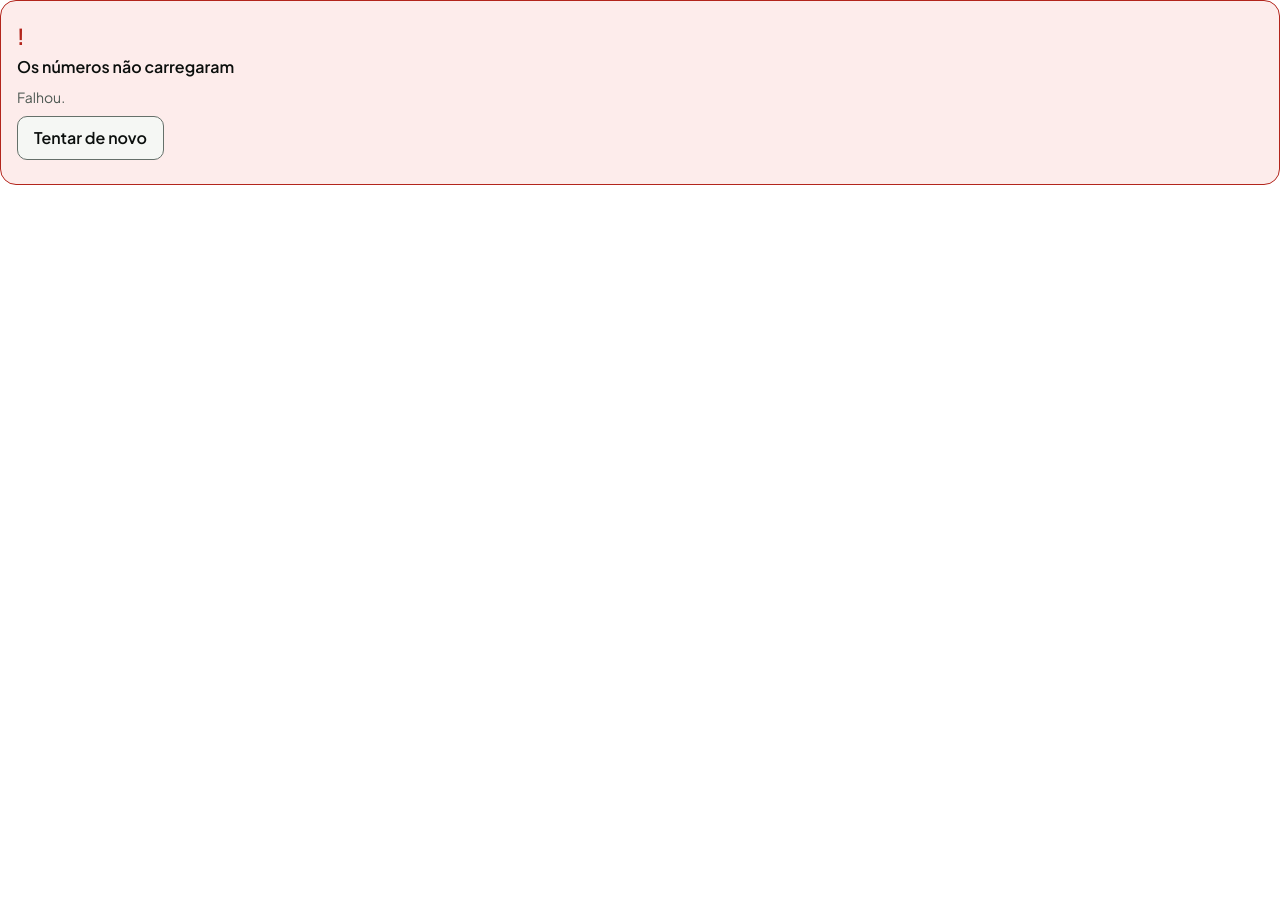
corpo do painel › erro oferece tentar de novo e carregando mostra o esqueleto
Click the button "Tentar de novo": {"x": 90, "y": 138} [17, 116, 164, 160]
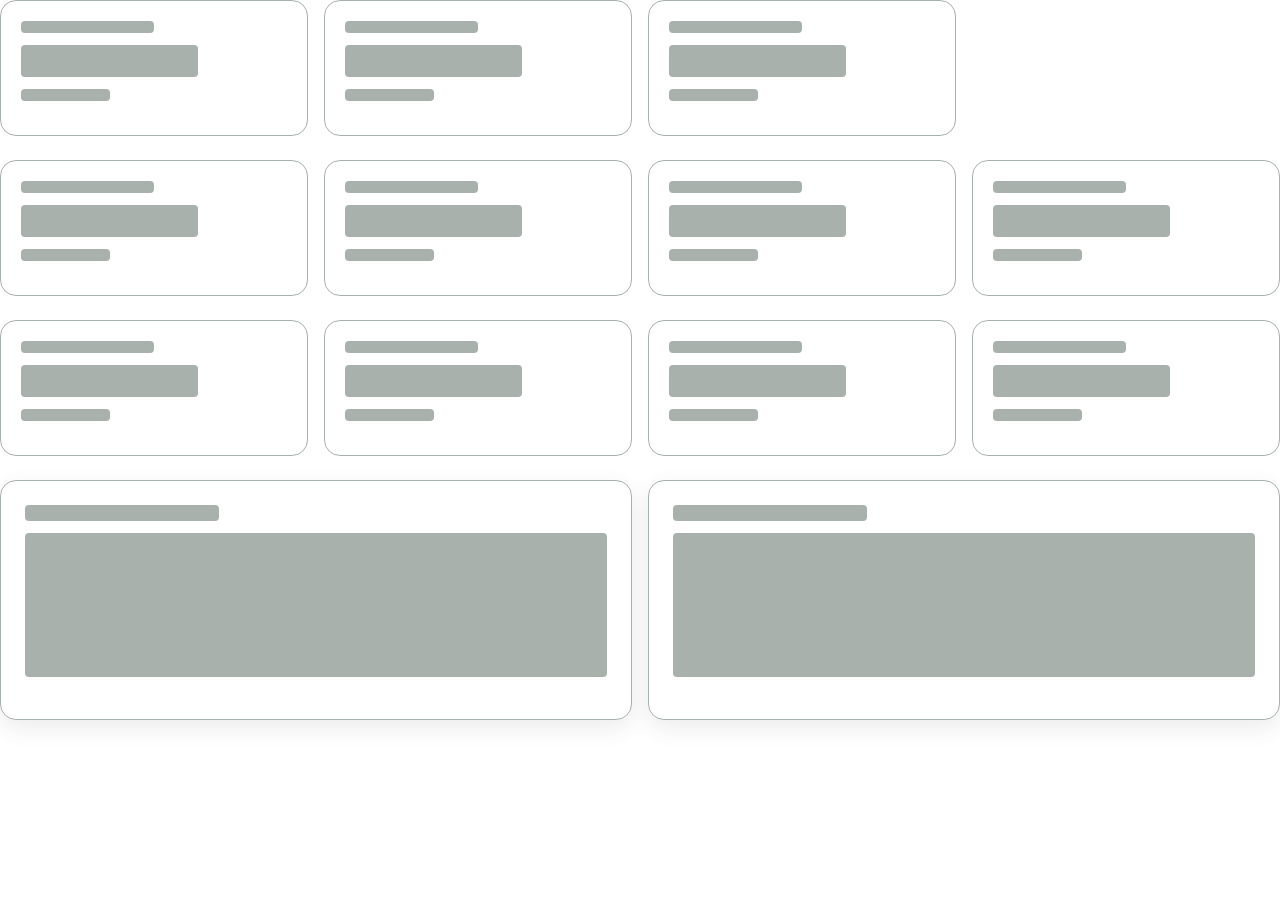
Check: the message is shown
